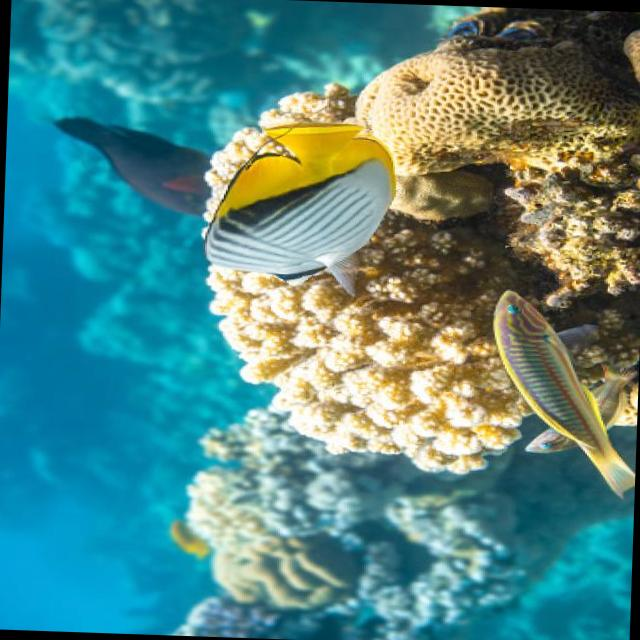ButterflyFish: (168, 83, 414, 310)
ZebraFish: (478, 288, 635, 494)
